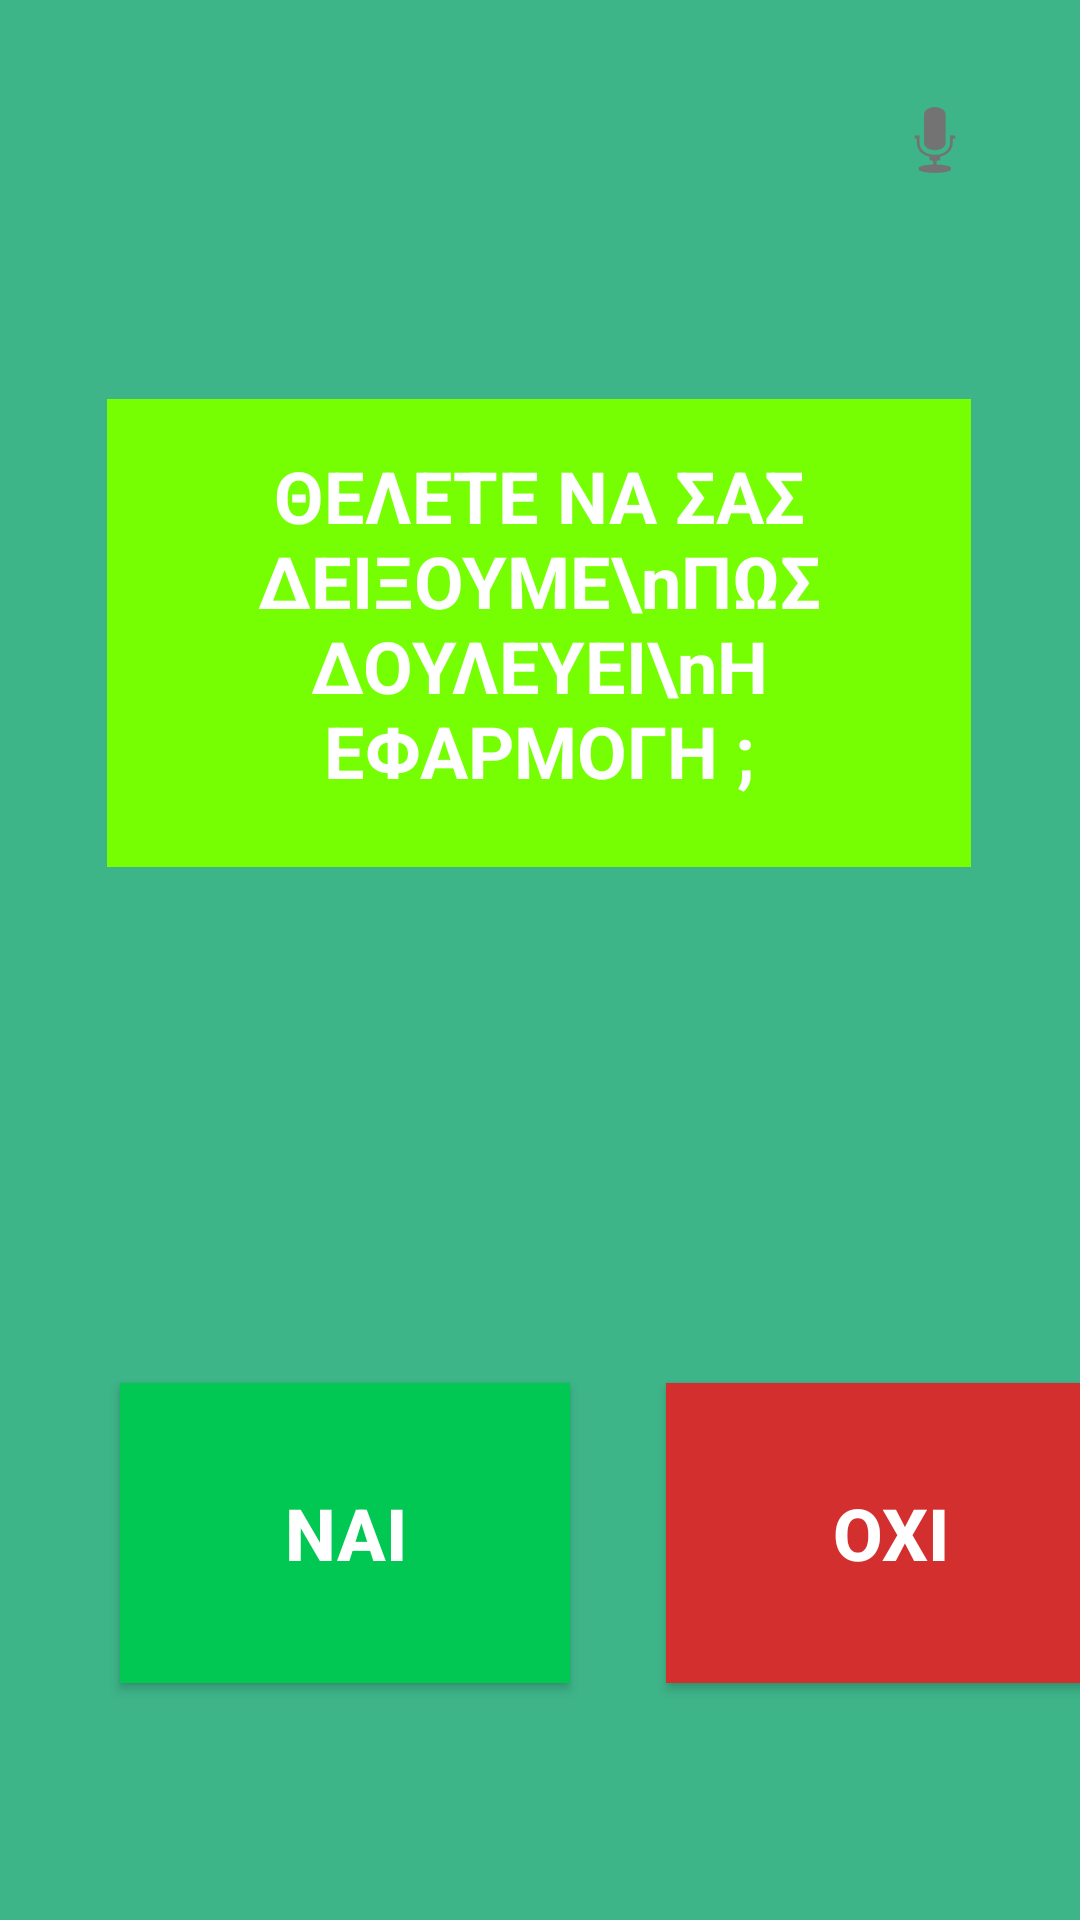

Icon bounding boxes for this 1080px x 1920px phone screenshot, format bbox(x1, y1, x2, y2):
speak now: bbox(914, 107, 955, 173)
